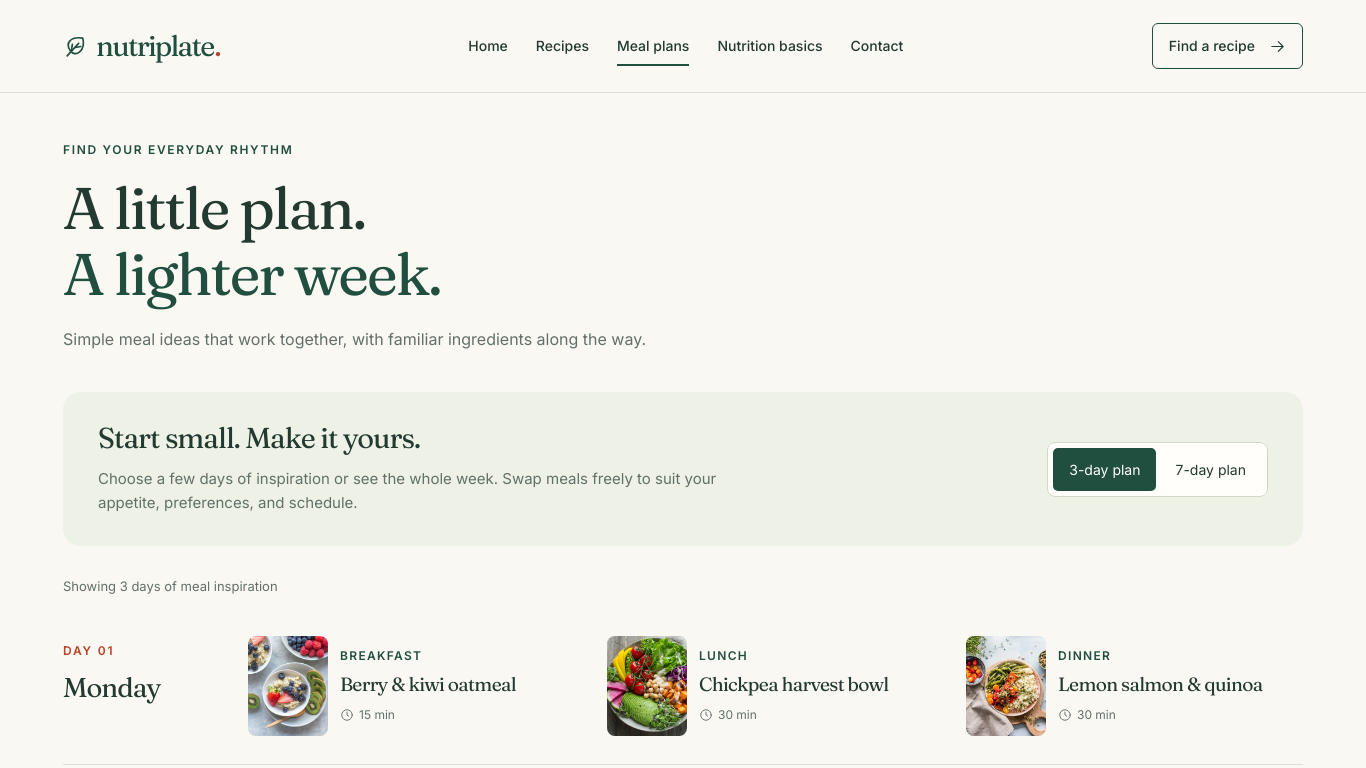
Scenario: Details, plans, and navigation › switches a meal plan from three to seven days using native radios
The width and height of the screenshot is (1366, 768).
Expected: the message shows "3 days", [63,578,278,594]
Step 1. Click the radio button labelled "7-day plan" → point(1211, 469), box [1176,461,1246,478]
(page scrolled)
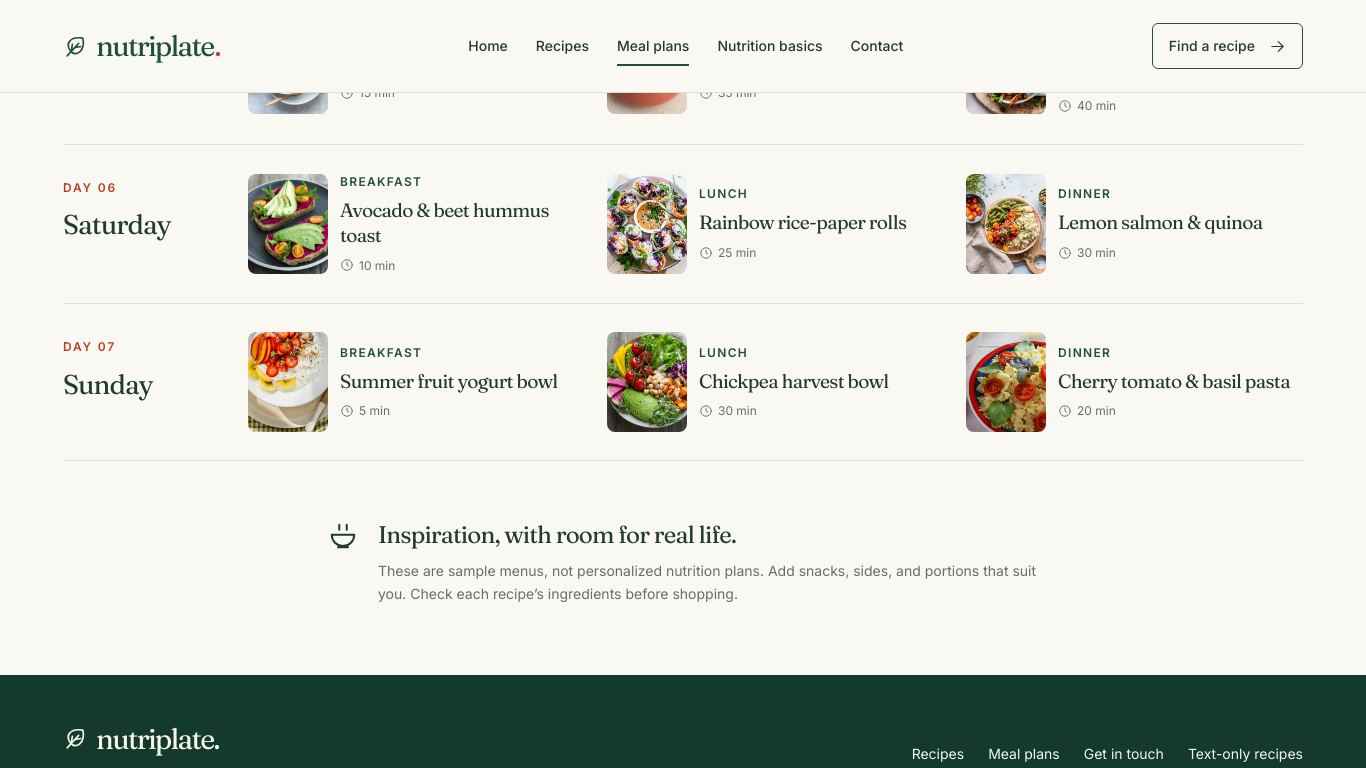
Expected: the heading "Sunday" is shown, [63,367,152,401]
